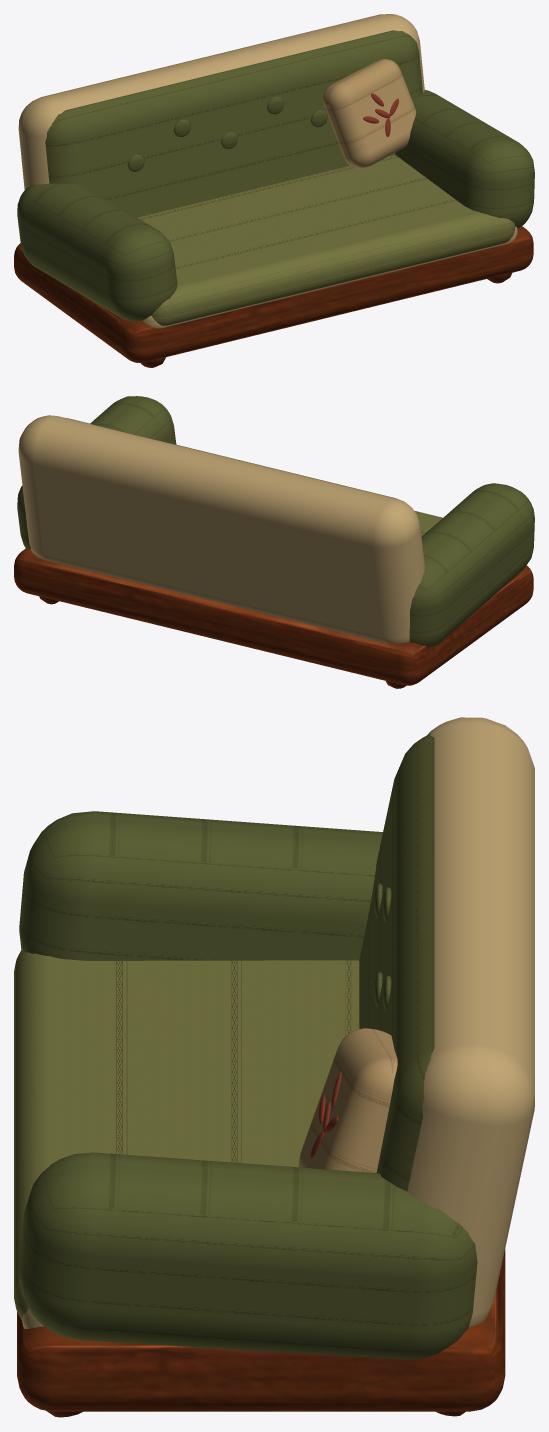
The model's file is window-settee.glb.
3 views of the same model, one above another, from view 1: azimuth 30°, elevation 25°; view 2: azimuth 150°, elevation 25°; view 3: azimuth 270°, elevation 25° (orthographic). The views are drawn at different scales.
Parts seen in each view (by area): view 1: Стёганая спинка, Сиденье, Ореховая рама, Левый валик, Правый валик, Спинка с кантом, Льняная подушка, Кант сиденья; view 2: Спинка с кантом, Ореховая рама, Левый валик, Правый валик; view 3: Правый валик, Сиденье, Спинка с кантом, Левый валик, Ореховая рама, Стёганая спинка, Льняная подушка.
Boxes of the visible parts, left/top/right/bottom form: Стёганая спинка: left=45, top=30, right=422, bottom=217; Сиденье: left=137, top=155, right=515, bottom=325; Ореховая рама: left=14, top=226, right=533, bottom=362; Левый валик: left=17, top=183, right=177, bottom=320; Правый валик: left=395, top=90, right=534, bottom=228; Спинка с кантом: left=18, top=14, right=424, bottom=189; Льняная подушка: left=323, top=59, right=416, bottom=168; Кант сиденья: left=142, top=226, right=517, bottom=328; Спинка с кантом: left=18, top=415, right=424, bottom=643; Ореховая рама: left=14, top=548, right=533, bottom=685; Левый валик: left=409, top=483, right=534, bottom=646; Правый валик: left=17, top=396, right=176, bottom=549; Правый валик: left=19, top=1152, right=477, bottom=1359; Сиденье: left=14, top=949, right=359, bottom=1319; Спинка с кантом: left=407, top=717, right=534, bottom=1326; Левый валик: left=19, top=811, right=382, bottom=960; Ореховая рама: left=17, top=1249, right=505, bottom=1411; Стёганая спинка: left=359, top=734, right=434, bottom=1191; Льняная подушка: left=298, top=1028, right=397, bottom=1172.
Bounding box in the file's own units: 1.23 × 0.5227 × 0.6723.
6 materials, 4 textured.
